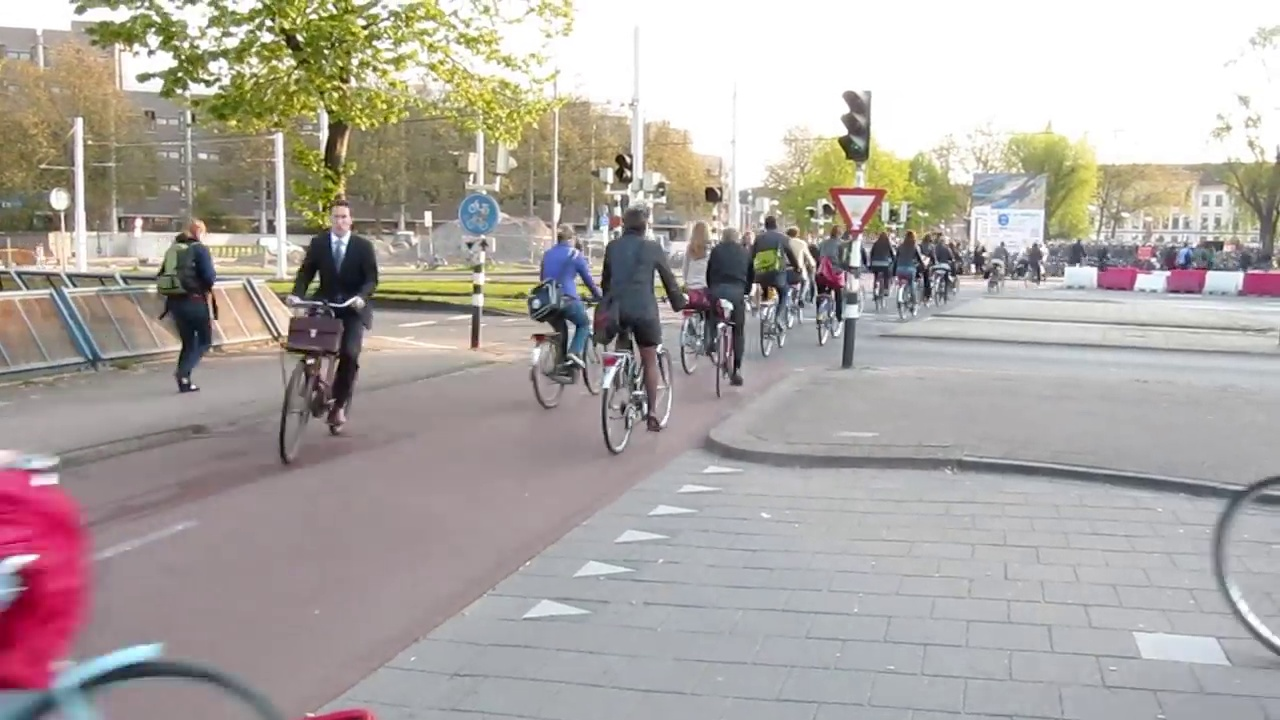cyclist_back: (599, 196, 679, 456), (523, 225, 600, 413), (710, 228, 750, 404), (748, 209, 789, 357), (678, 218, 714, 372), (893, 224, 927, 329), (786, 222, 818, 329), (814, 229, 843, 345), (866, 229, 894, 309), (931, 238, 960, 307)
cyclist_front: (275, 190, 364, 479)
